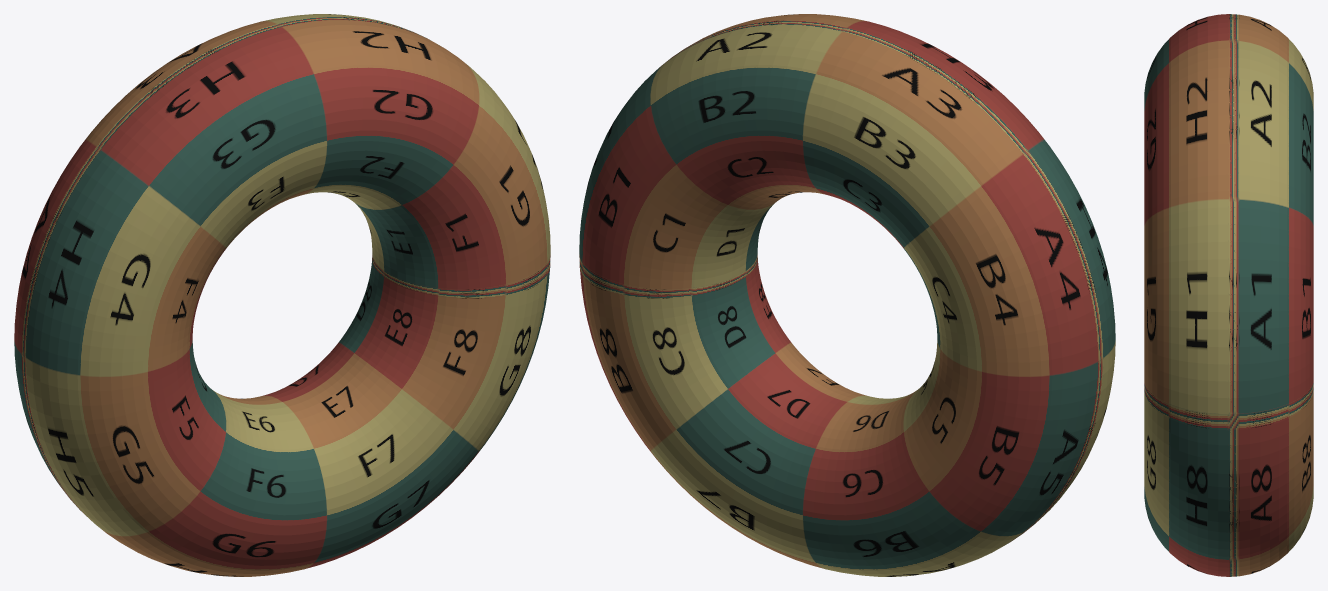
The model's file is texture_torus_R5_r8.glb.
3 views of the same model, side by side, from view 1: azimuth 30°, elevation 25°; view 2: azimuth 150°, elevation 25°; view 3: azimuth 270°, elevation 25° (orthographic). The views are drawn at different scales.
Parts seen in each view (by area): view 1: world; view 2: world; view 3: world.
Boxes of the visible parts, bbox=[...] form: world: bbox=[14, 14, 550, 576]; world: bbox=[579, 14, 1115, 576]; world: bbox=[1144, 14, 1313, 576].
Bounding box in the file's own units: 30.22 × 30.22 × 9.09.
Materials: 1 (1 with a texture image).
